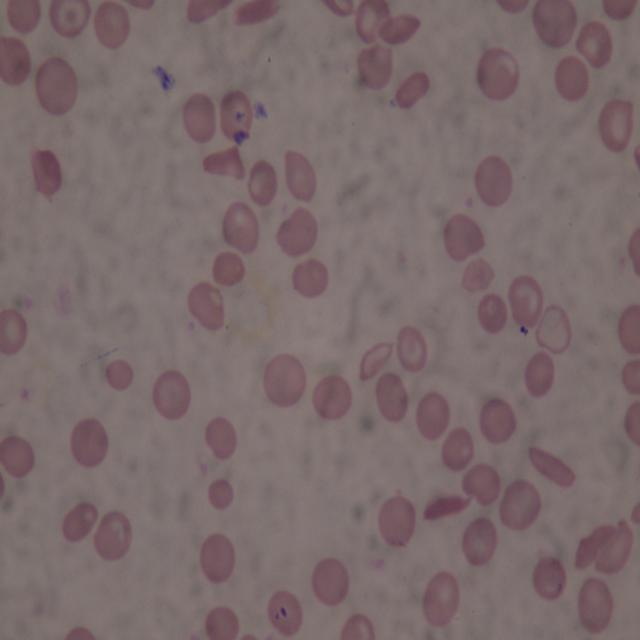Crystal: (231, 1, 280, 27), (183, 0, 229, 23)
Normal: (2, 308, 26, 354)
Others: (35, 52, 75, 112), (532, 0, 580, 50), (422, 567, 459, 629), (476, 47, 518, 101), (264, 356, 306, 408), (505, 273, 545, 327), (501, 475, 541, 529), (277, 205, 319, 256), (576, 577, 613, 634), (92, 508, 130, 563), (474, 156, 513, 209), (69, 418, 109, 469), (593, 518, 630, 572), (444, 213, 486, 260), (220, 202, 259, 252), (94, 0, 132, 50), (310, 374, 352, 419), (598, 98, 634, 150), (461, 516, 497, 567), (378, 496, 414, 546), (534, 306, 570, 356), (220, 86, 252, 142), (188, 281, 225, 329), (153, 370, 190, 418), (575, 19, 611, 68), (311, 558, 349, 604), (0, 34, 33, 86), (530, 554, 568, 599), (376, 11, 422, 48), (183, 92, 216, 143), (284, 152, 317, 203), (357, 339, 394, 384), (61, 499, 98, 544), (414, 393, 450, 439), (266, 590, 302, 636), (478, 396, 516, 439), (376, 371, 408, 422), (201, 534, 236, 580), (554, 54, 588, 100), (356, 0, 394, 41), (204, 145, 246, 182), (290, 259, 329, 298), (358, 45, 395, 86), (30, 148, 61, 196), (248, 158, 278, 206), (439, 428, 474, 469), (396, 326, 427, 372), (2, 432, 33, 478), (463, 465, 497, 506), (524, 350, 554, 396), (205, 416, 237, 458), (394, 70, 429, 108), (477, 290, 508, 332), (461, 256, 497, 291), (7, 0, 42, 34), (212, 250, 244, 287), (618, 303, 640, 354), (205, 607, 238, 640), (105, 359, 132, 392), (601, 0, 639, 23), (341, 612, 374, 638), (208, 478, 233, 511), (620, 357, 640, 394), (623, 402, 639, 442), (628, 227, 640, 278), (64, 622, 100, 638), (321, 2, 355, 18), (492, 0, 530, 13), (123, 0, 156, 12)
Sickle: (572, 522, 618, 573), (526, 444, 576, 488), (420, 491, 474, 524)
Target: (49, 0, 92, 39)
